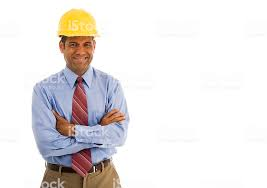Person_wearing_helmet: (52, 7, 101, 51)
